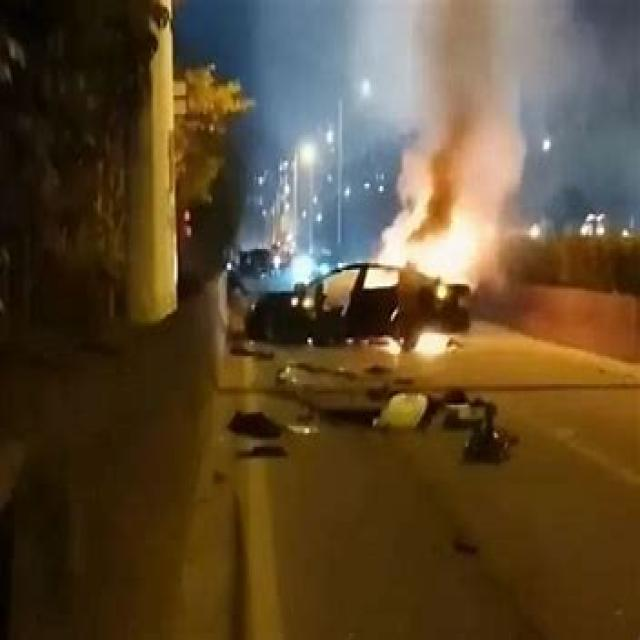fire: (365, 211, 483, 357)
